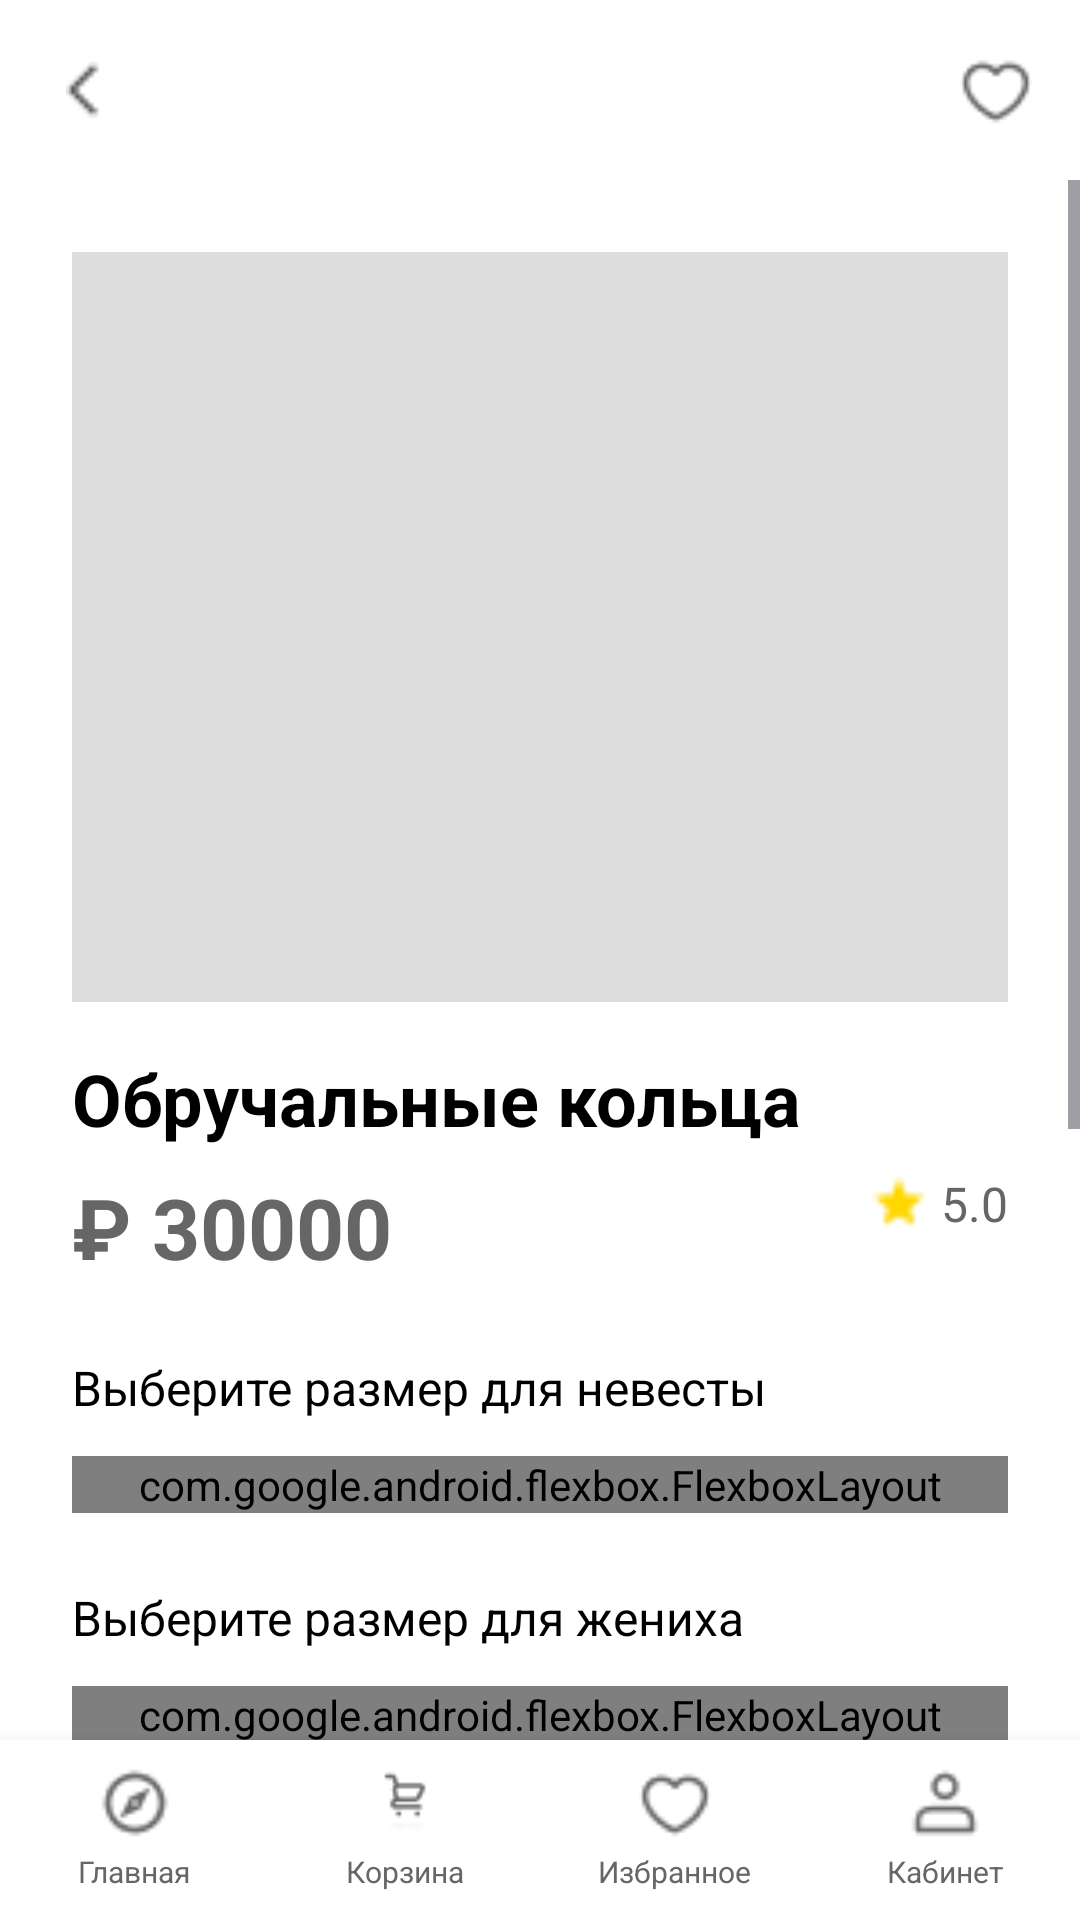

Named icons in this screenshot (1080 x 1920) and their centers, (x,y):
back: (82,90)
heart: (996,91), (675,1804)
profile: (945,1803)
star: (899,1202)
